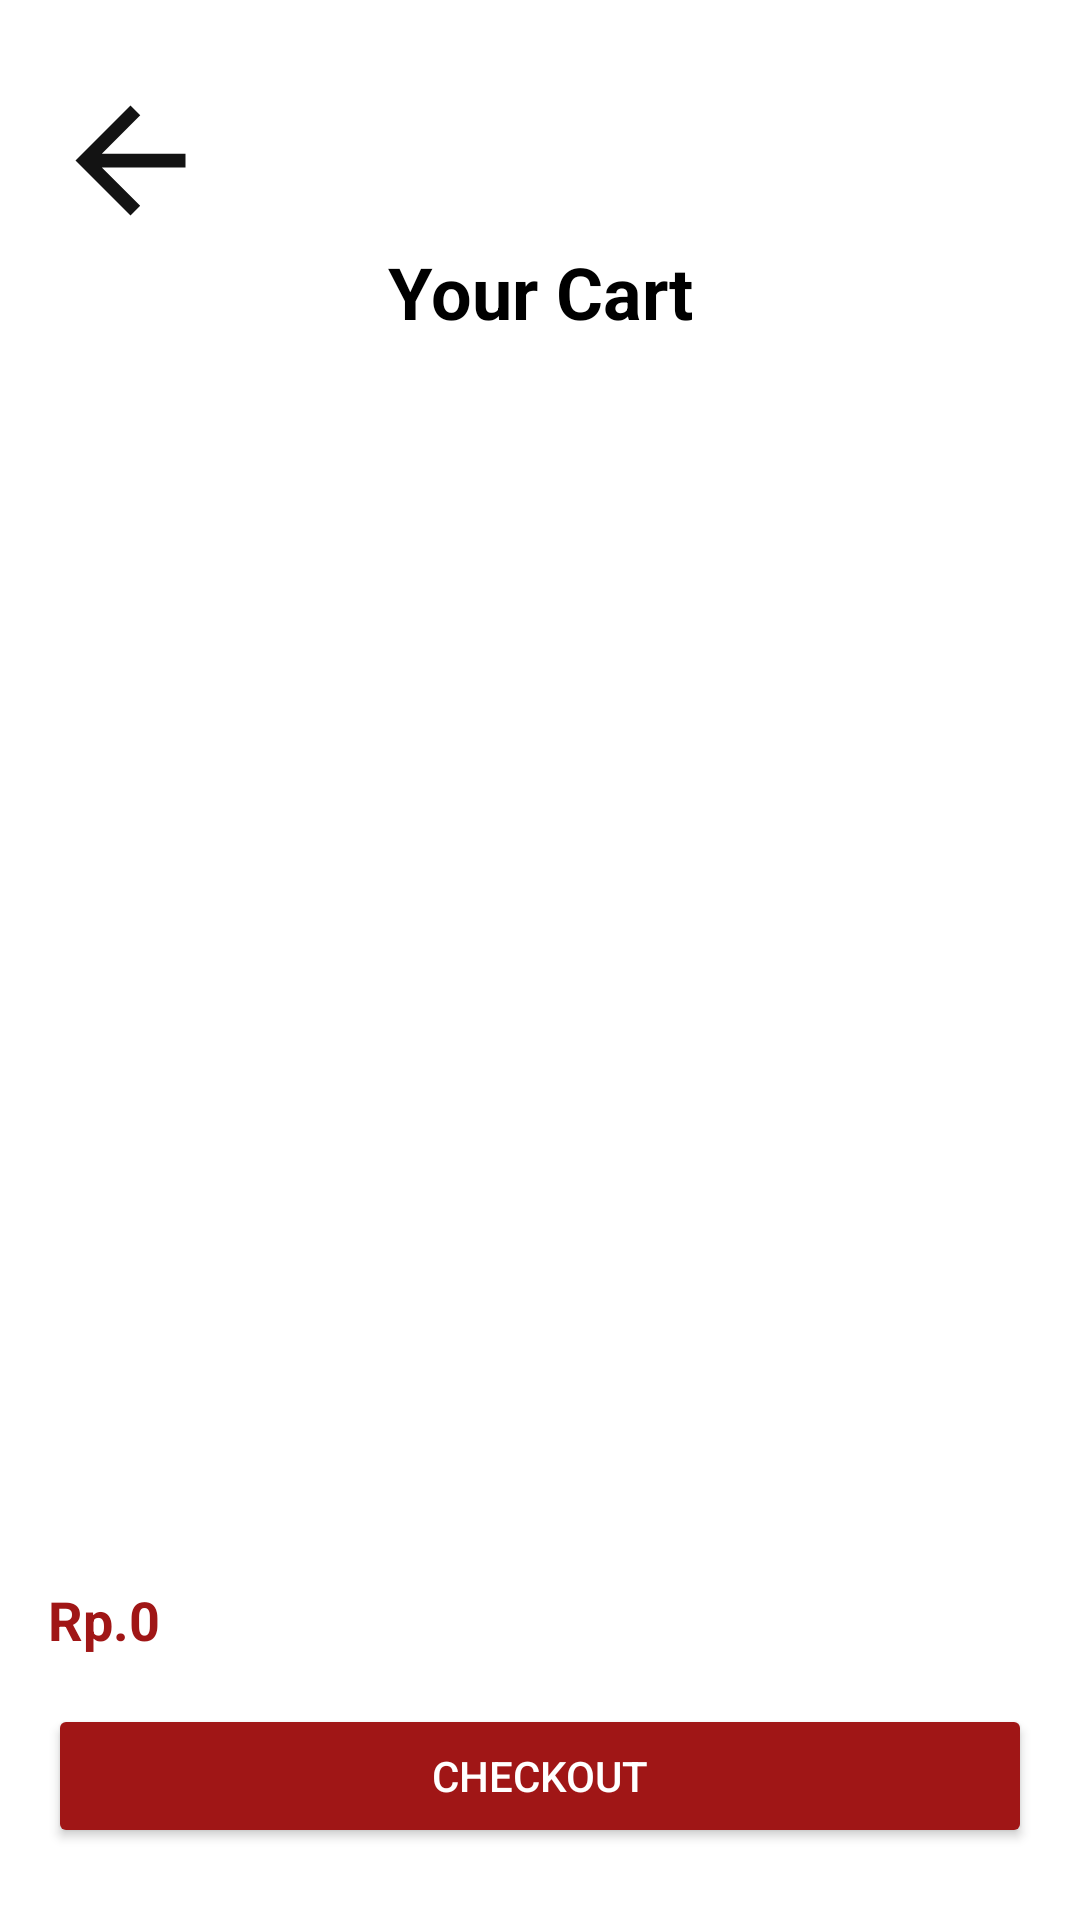

Icon bounding boxes for this 1080w x 1920h phone screenshot, format (x1,y1,x2,y2):
back: (75,105,186,216)
